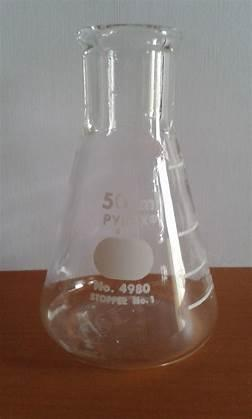Titrarion: (40, 15, 218, 368)
